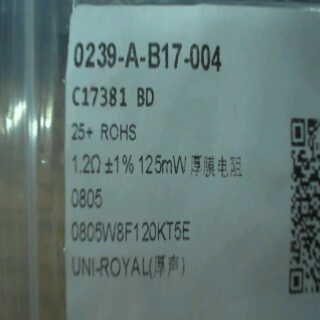1.2R: (67, 151, 105, 216)
